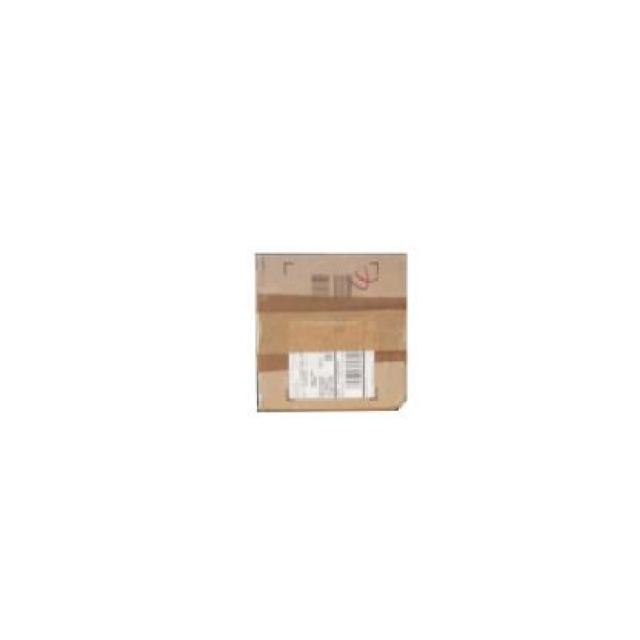cardboxes: (258, 254, 412, 408)
